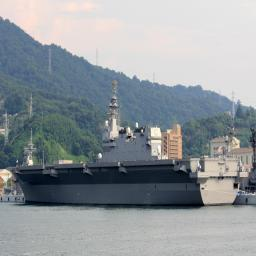Portanaves: (6, 78, 252, 208)
